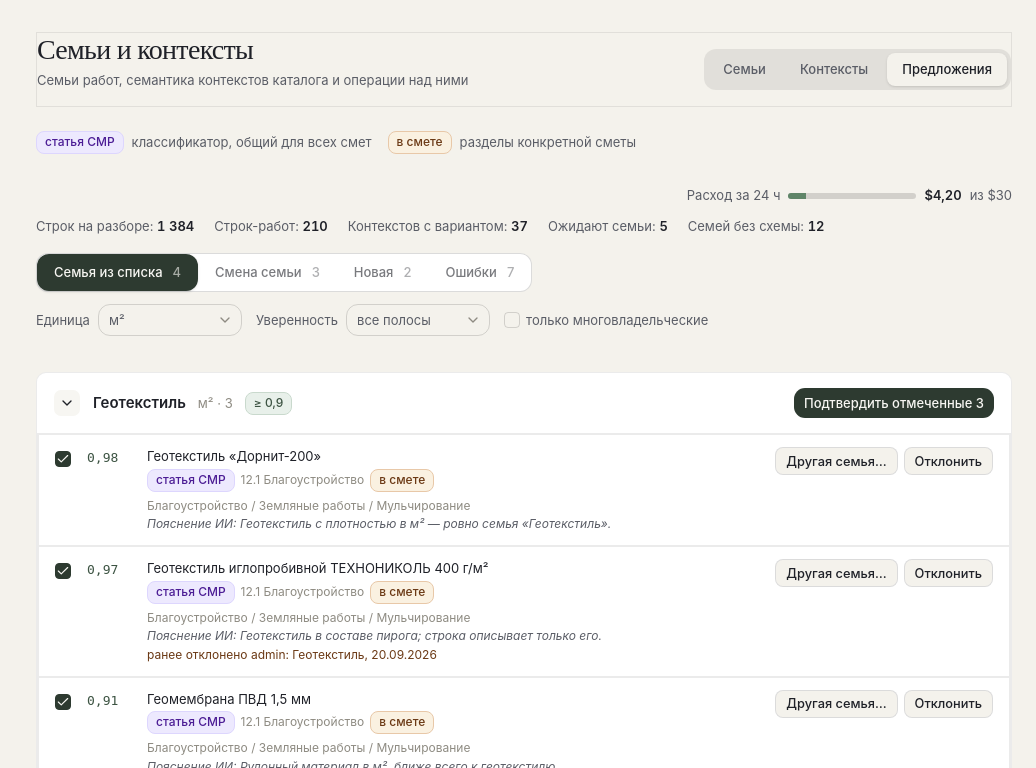
Test: FamiliesPage: вход по адресу ?tab=suggestions&unit=&context= › переключение вкладки вручную убирает параметры входа из адреса
Click the tab "Семьи" at (745, 69), box left=708, top=53, right=781, bottom=86
(page scrolled)
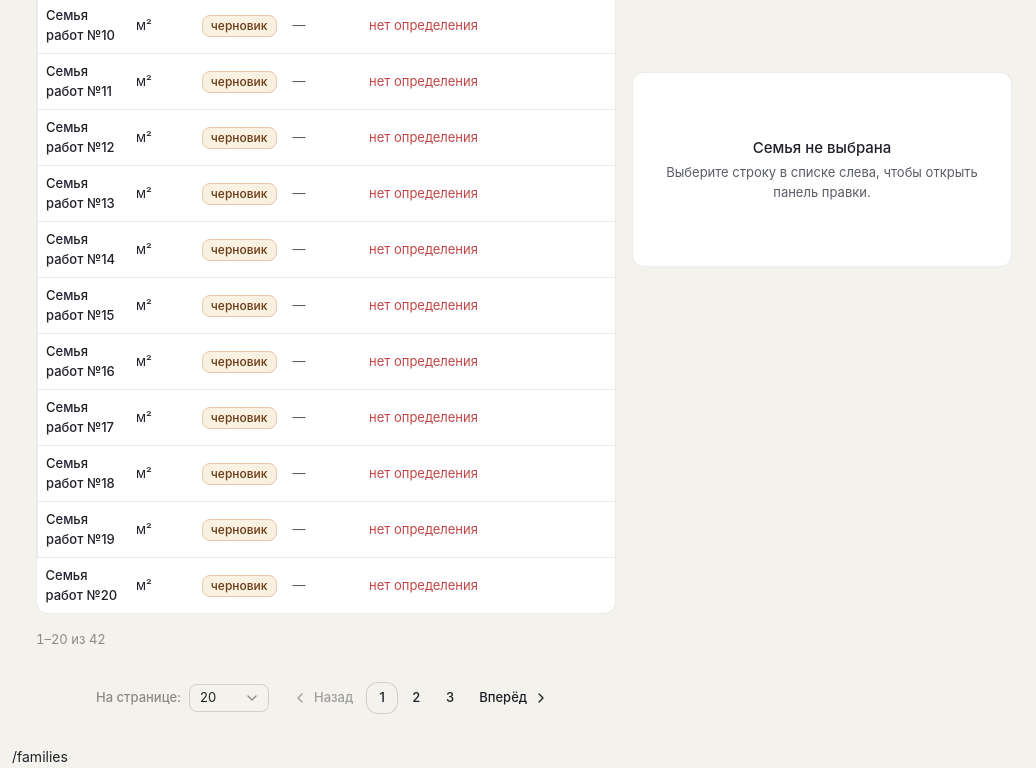
Result: the text with test id "loc" reads "/families" at left=12, top=748, right=68, bottom=765
